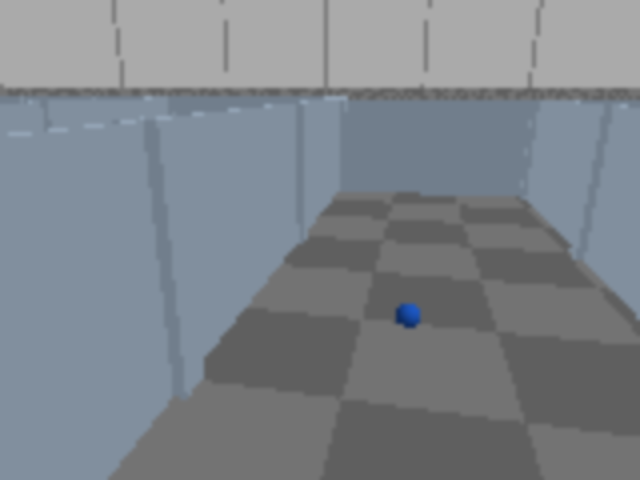puck: (392, 297, 425, 335)
